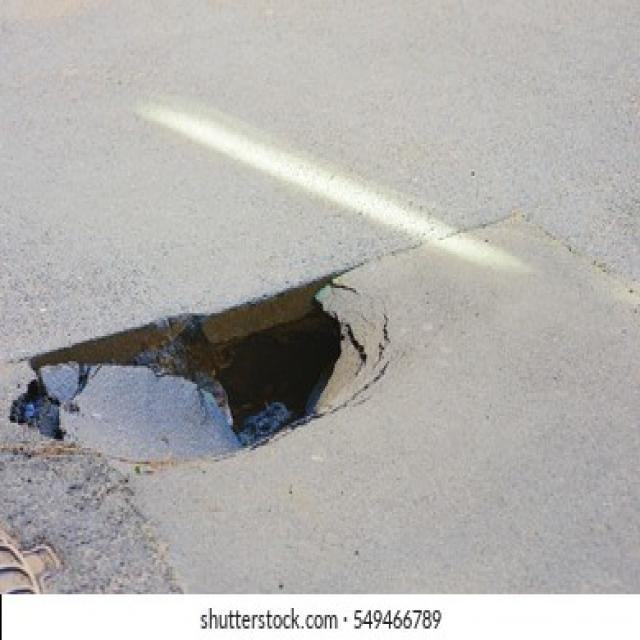Pothole: (8, 269, 363, 466)
